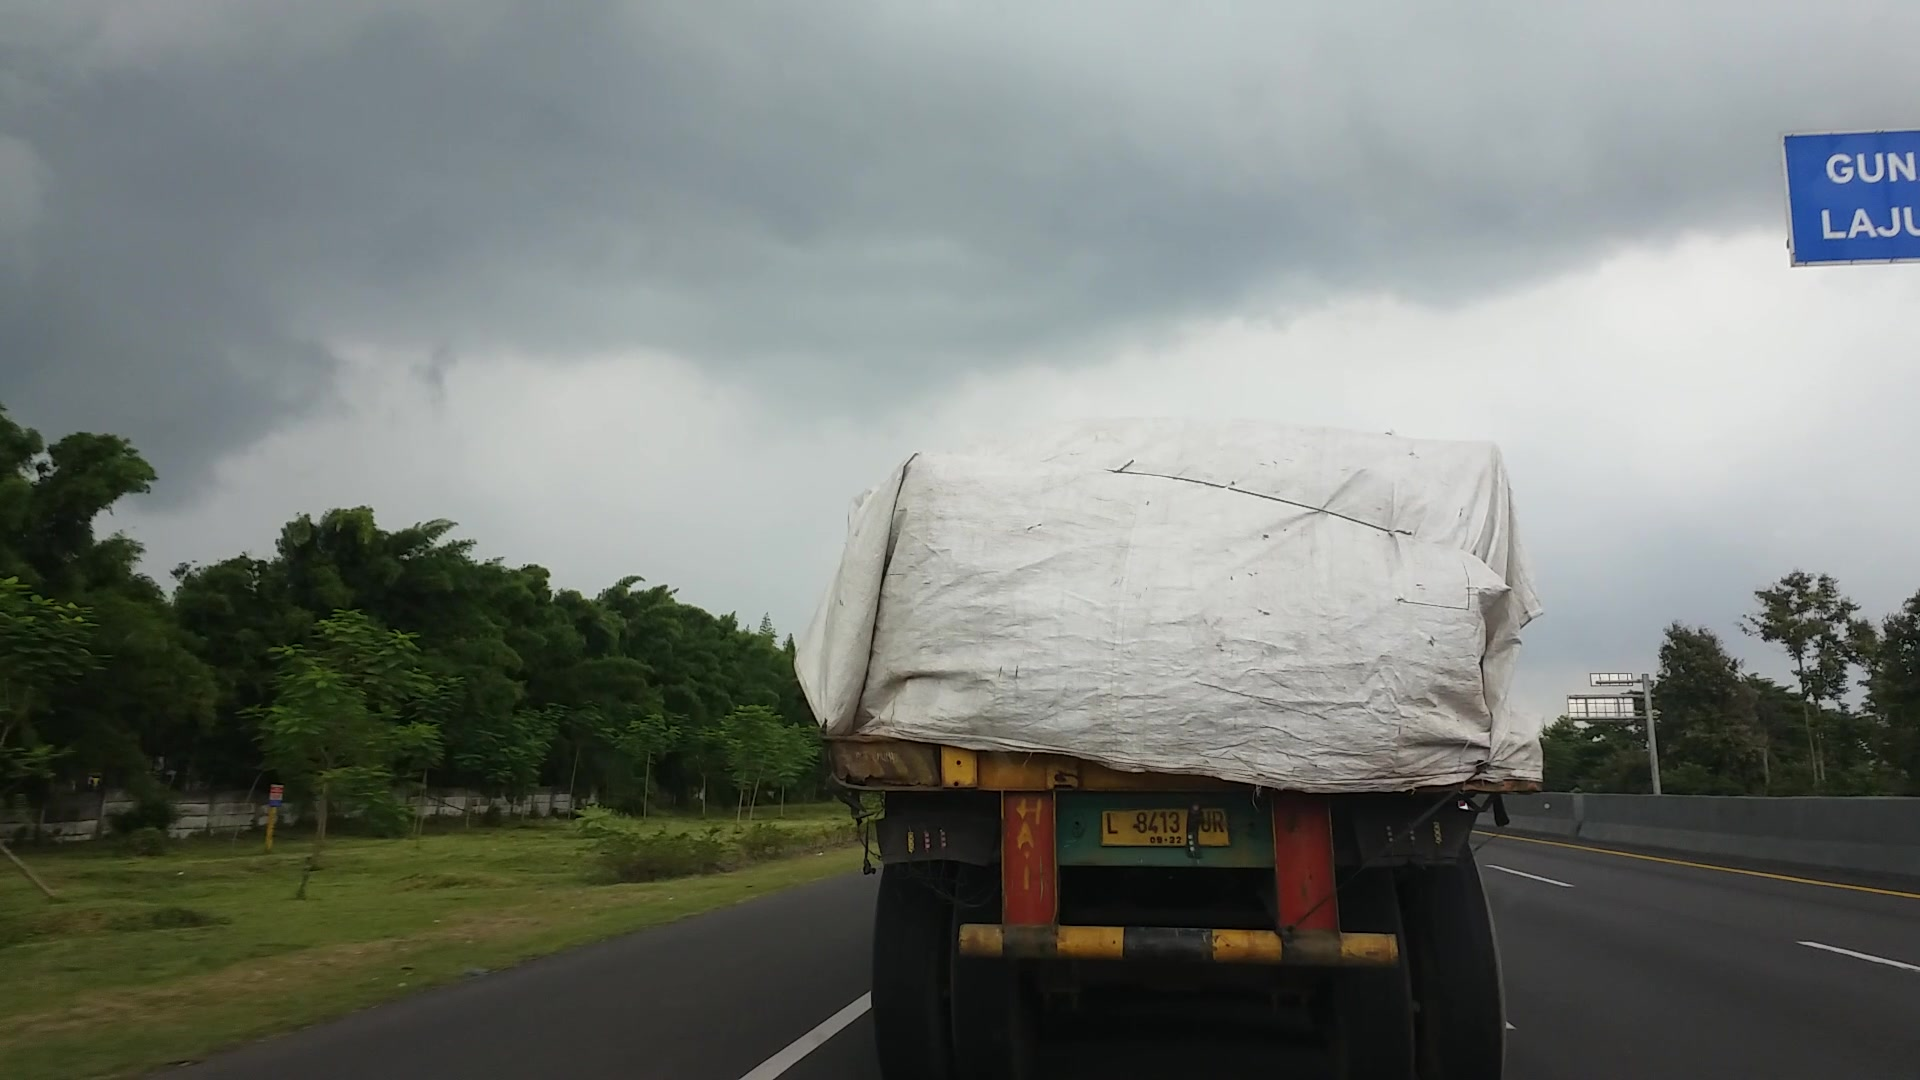plate_positive: (1100, 806, 1230, 847)
